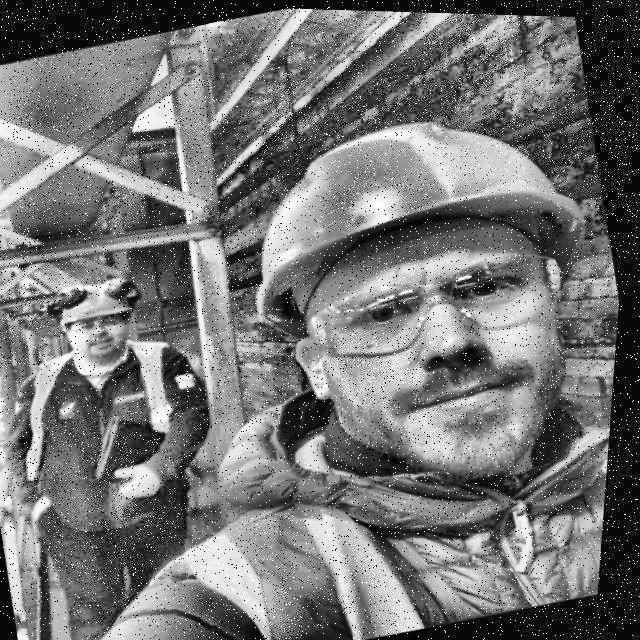Helmet: (196, 68, 636, 533), (36, 258, 170, 378)
